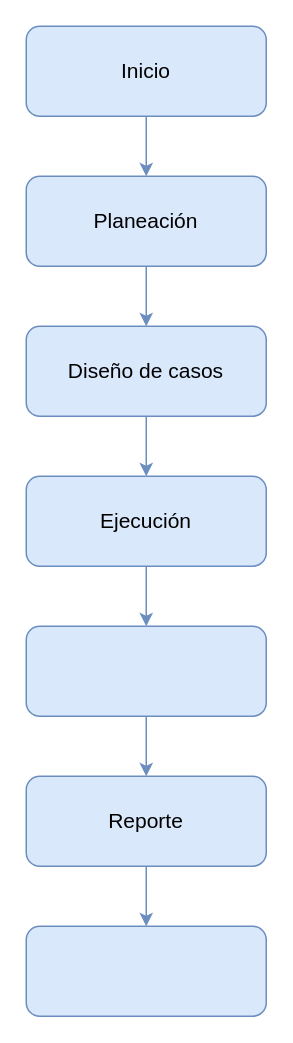
Image size: 293x1043. Some labels were removed from this diagram. Each missing label, with the centre of its shape:
Cierre: the point at 145,970
Registro de resultados: the point at 145,670
